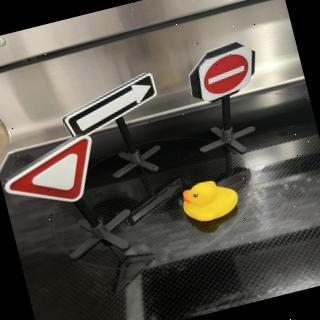duck_regular: (180, 176, 244, 228)
sign_noentry: (192, 43, 265, 106)
sign_oneway_right: (57, 71, 166, 142)
sign_yield: (1, 133, 107, 219)
